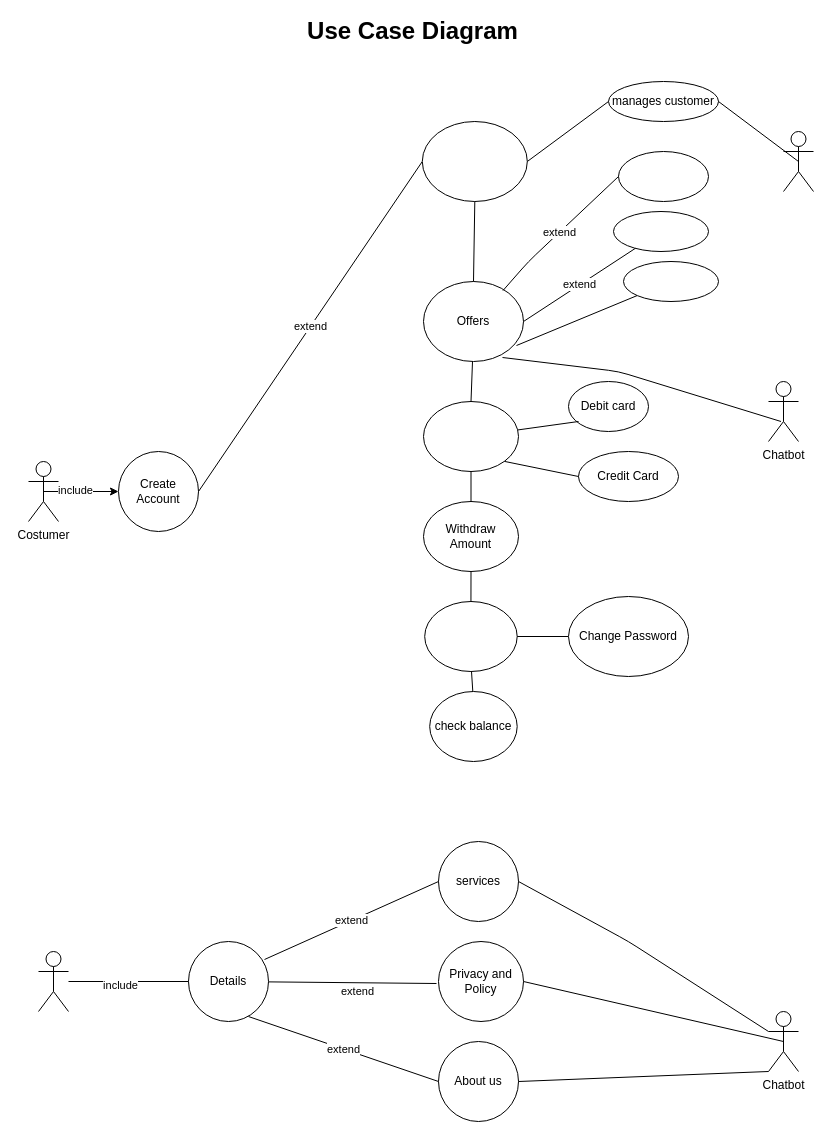
The diagram is 832 pixels wide and 1139 high, and some of its shapes have lost their labels. The box of each missing label's shape, as (x1, y1, x2, y2) in pixels:
Accounts info: (618, 150, 708, 202)
Admin: (782, 130, 814, 192)
Cards Information: (422, 400, 518, 472)
Hajj Packages info: (622, 260, 718, 302)
Loans info: (612, 210, 708, 252)
Log In: (421, 120, 527, 202)
Profile: (424, 600, 517, 672)
Visitors: (38, 950, 68, 1012)
